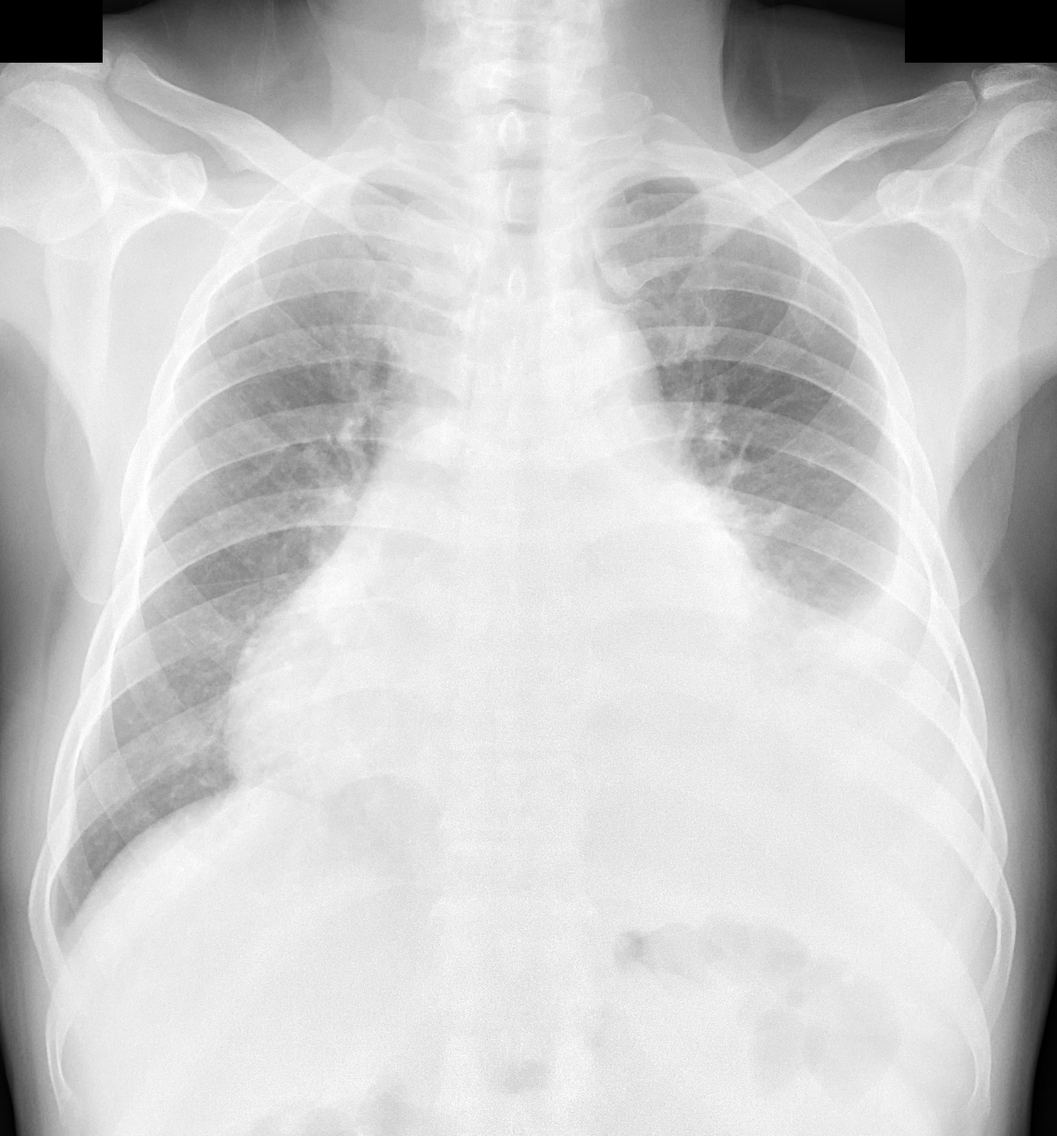Aortic enlargement: (383, 310, 666, 448)
Cardiomegaly: (227, 609, 877, 792)
